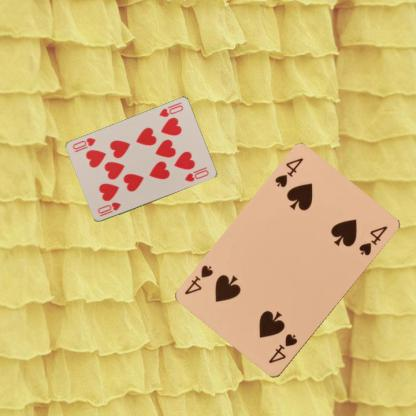10h: (95, 200, 122, 218), (157, 103, 184, 118)
4s: (272, 156, 305, 190), (266, 331, 298, 365)
